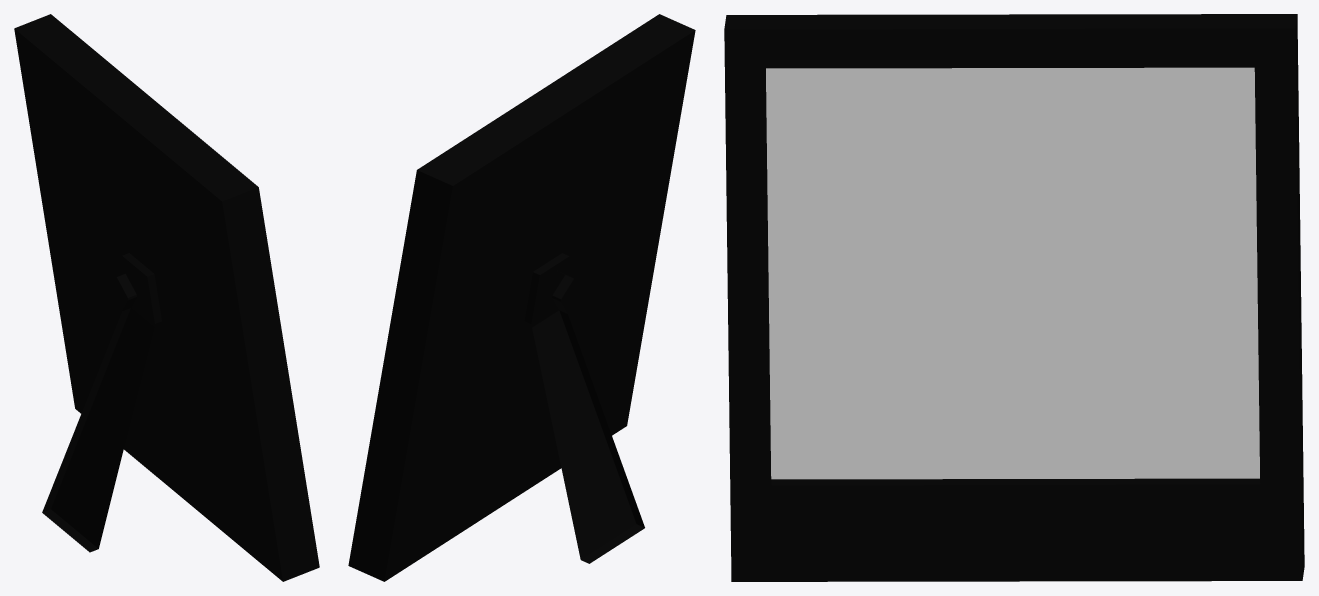
File: PicTure.fbx
The picture shows the model from 3 angles, left to right: view 1: azimuth 30°, elevation 25°; view 2: azimuth 150°, elevation 25°; view 3: azimuth 270°, elevation 25°; orthographic projection. The views are drawn at different scales.
Visible parts, largest first — view 1: Picture frames; view 2: Picture frames; view 3: Glass, Picture frames.
Boxes of the visible parts, x1,y1,x2,y2 form: Picture frames: (14, 14, 319, 581); Picture frames: (348, 14, 695, 581); Glass: (766, 67, 1259, 479); Picture frames: (724, 14, 1304, 581).
Size of the model in its own units: 14.8 by 38.36 by 37.23.
3 materials, 2 textured.
